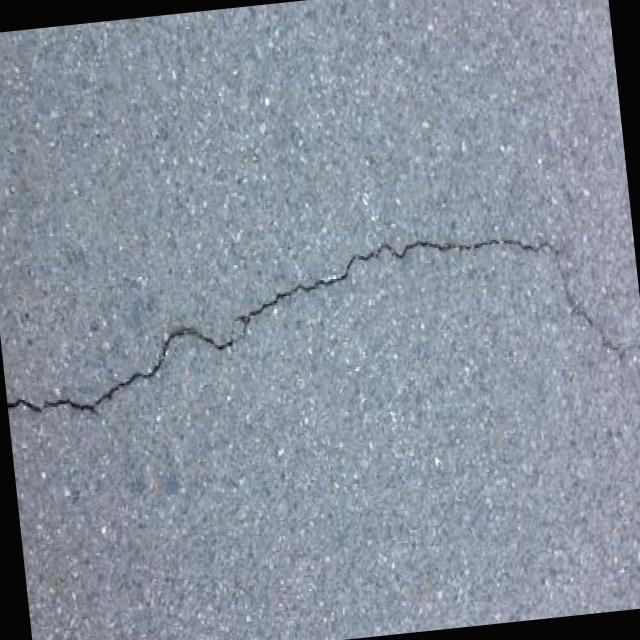Retak-Melintang: (7, 235, 640, 418)
